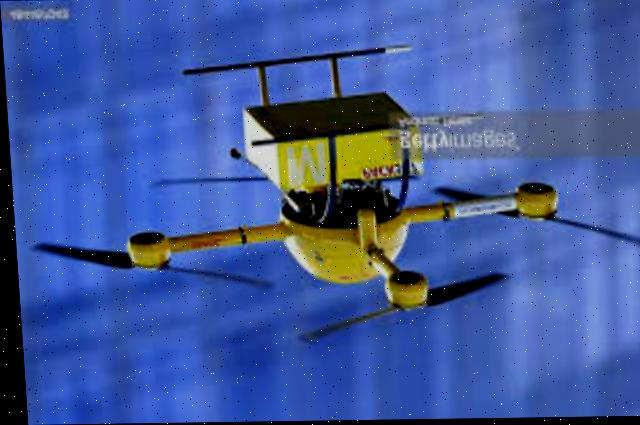drone: (32, 44, 615, 345)
